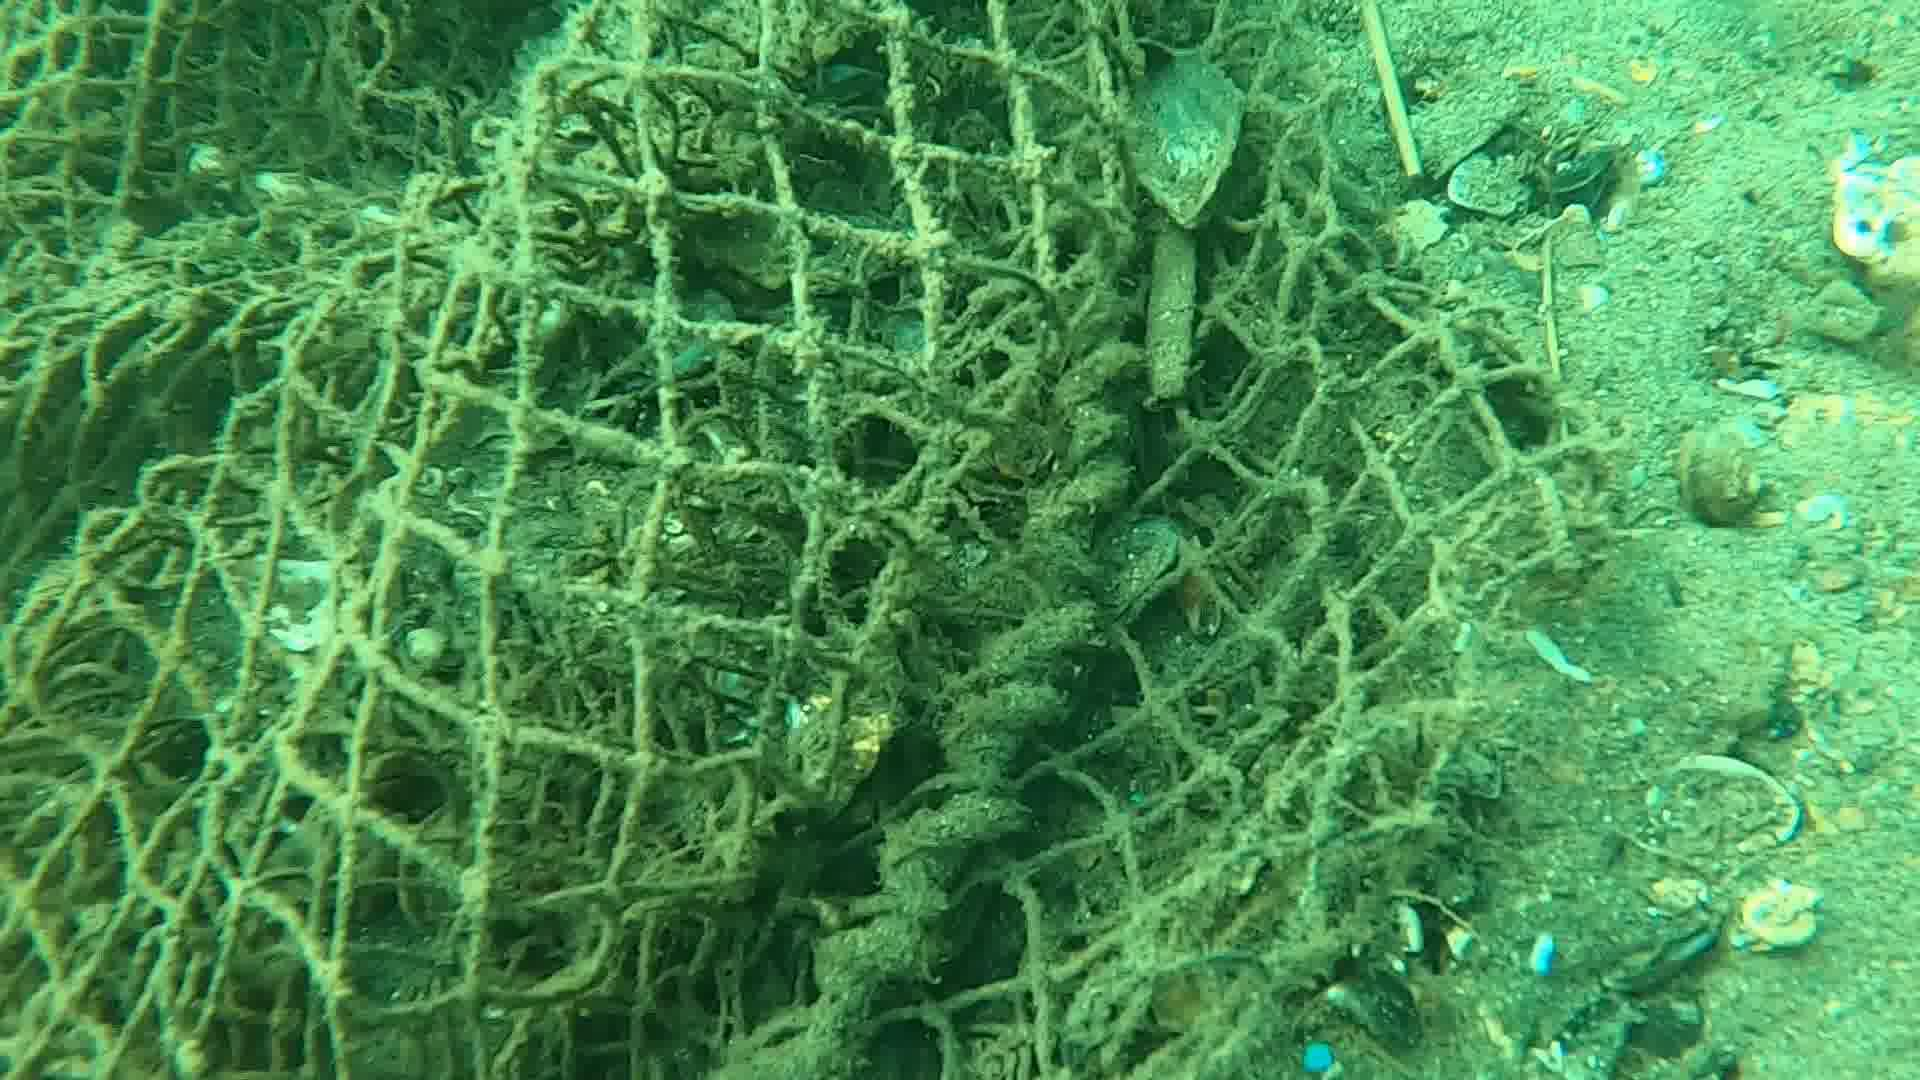fish net: (0, 0, 1623, 1080)
